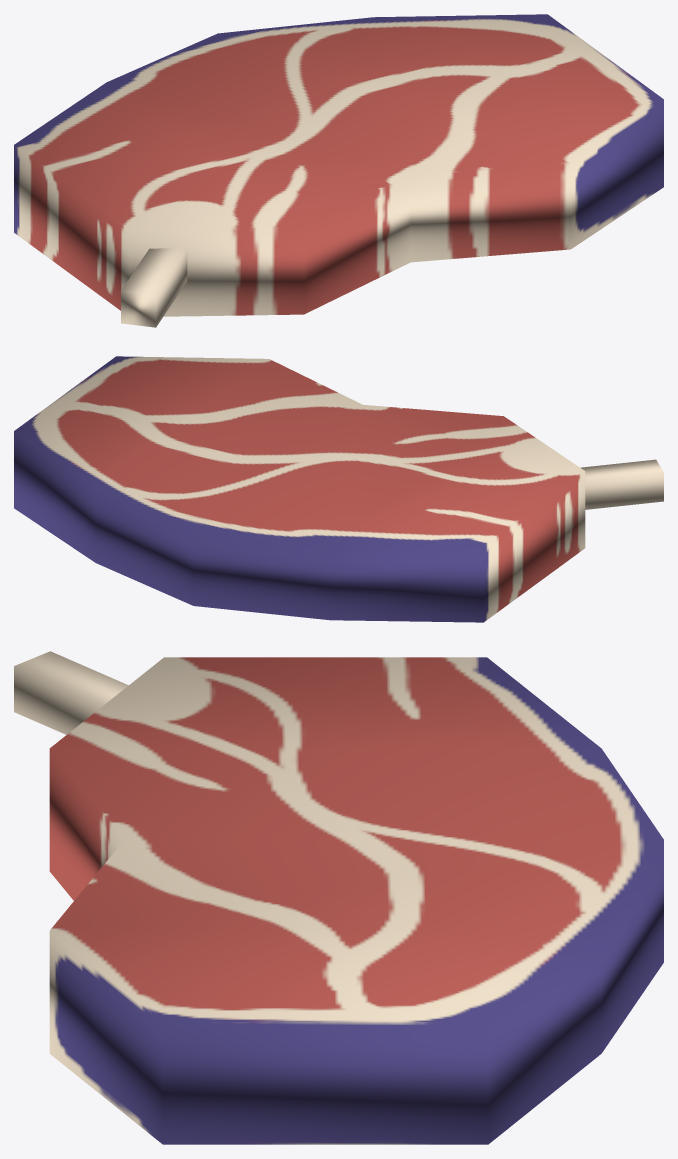
The model's file is Meat_Pig.fbx.
The picture shows the model from 3 angles, top to bottom: view 1: azimuth 30°, elevation 25°; view 2: azimuth 150°, elevation 25°; view 3: azimuth 270°, elevation 25°; orthographic projection. The views are drawn at different scales.
Parts seen in each view (by area): view 1: MeatPig:pCube1, MeatPig:pCube2; view 2: MeatPig:pCube1, MeatPig:pCube2; view 3: MeatPig:pCube1, MeatPig:pCube2.
Boxes of the visible parts, box(x1,y1,x2,y2) form: MeatPig:pCube1: box(14, 14, 663, 316); MeatPig:pCube2: box(121, 248, 187, 327); MeatPig:pCube1: box(14, 356, 585, 622); MeatPig:pCube2: box(580, 459, 663, 509); MeatPig:pCube1: box(49, 657, 663, 1144); MeatPig:pCube2: box(14, 651, 128, 734).
Bounding box in the file's own units: 2.62 × 0.3774 × 1.81.
1 material, 1 textured.
